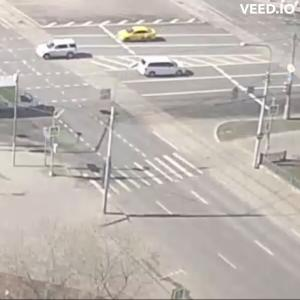car: (38, 40, 80, 62), (144, 61, 195, 79), (116, 24, 154, 44)
